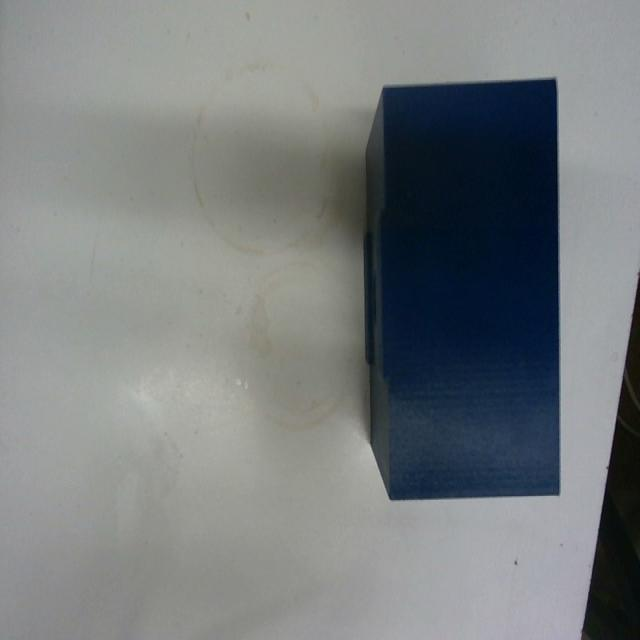Blue Cuboid: (361, 75, 562, 501)
